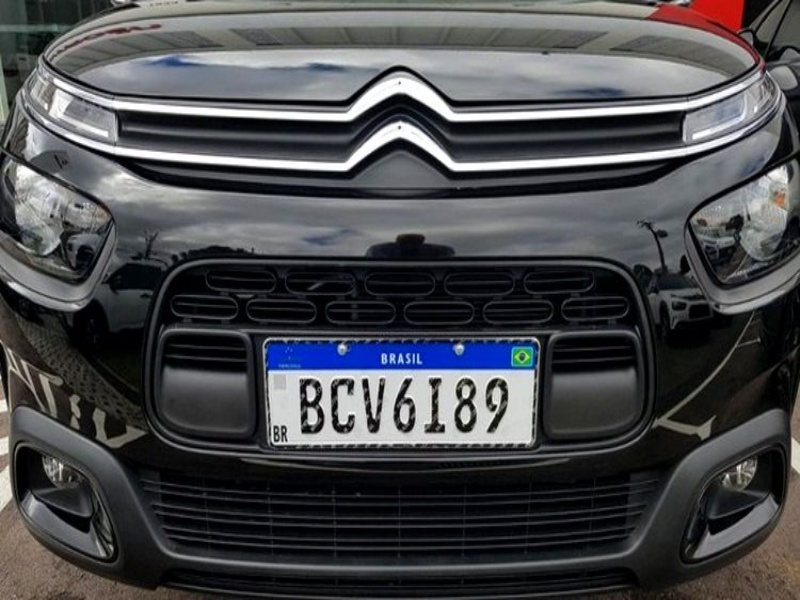placa: (257, 329, 549, 456)
